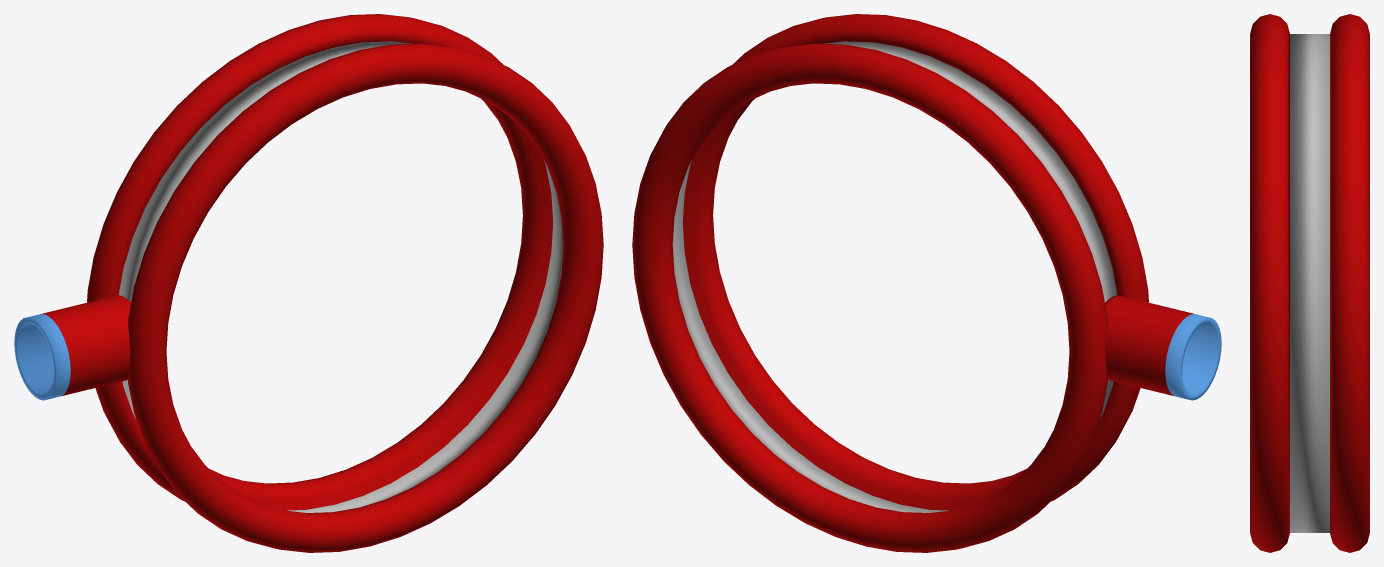
File: Turret_Enemy.fbx
3 renders of one model, left to right at view 1: azimuth 30°, elevation 25°; view 2: azimuth 150°, elevation 25°; view 3: azimuth 270°, elevation 25°, orthographic.
Visible parts, largest first — view 1: Torus.001; view 2: Torus.001; view 3: Torus.001.
Part boxes in pixels (<box>): Torus.001: <box>14,14,603,552</box>; Torus.001: <box>632,14,1221,552</box>; Torus.001: <box>1250,14,1369,552</box>.
Bounding box in the file's own units: 624 × 540 × 120.
